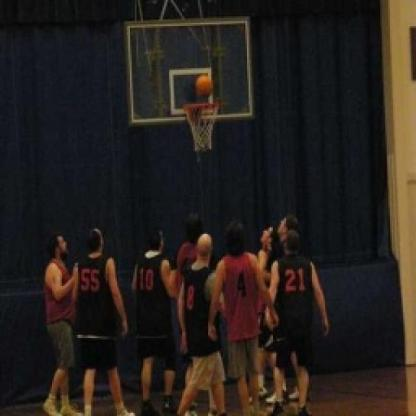basketball: (194, 70, 216, 99)
